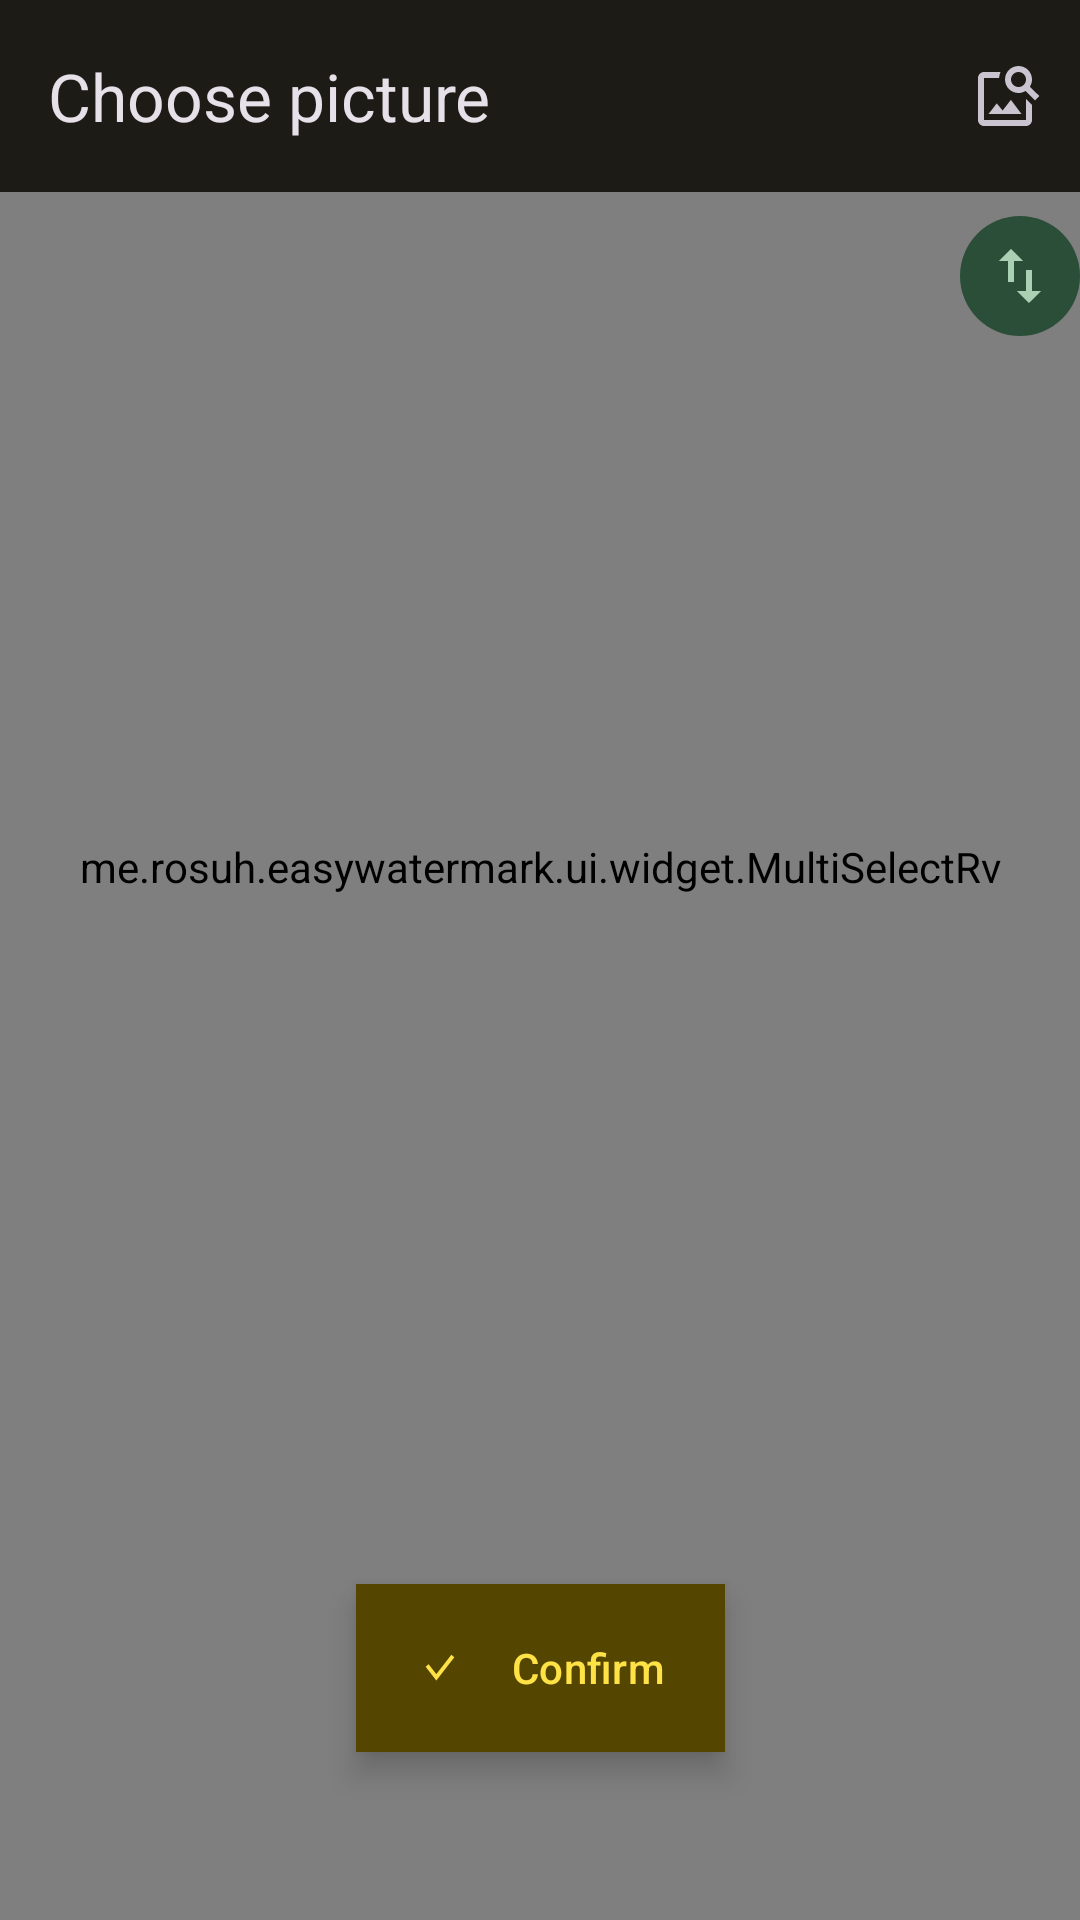

Where icons sit on this 1080x1920 app screen, as (x1, y1, x2, y2):
gallery scroll bar anchor: (960, 216, 1080, 336)
